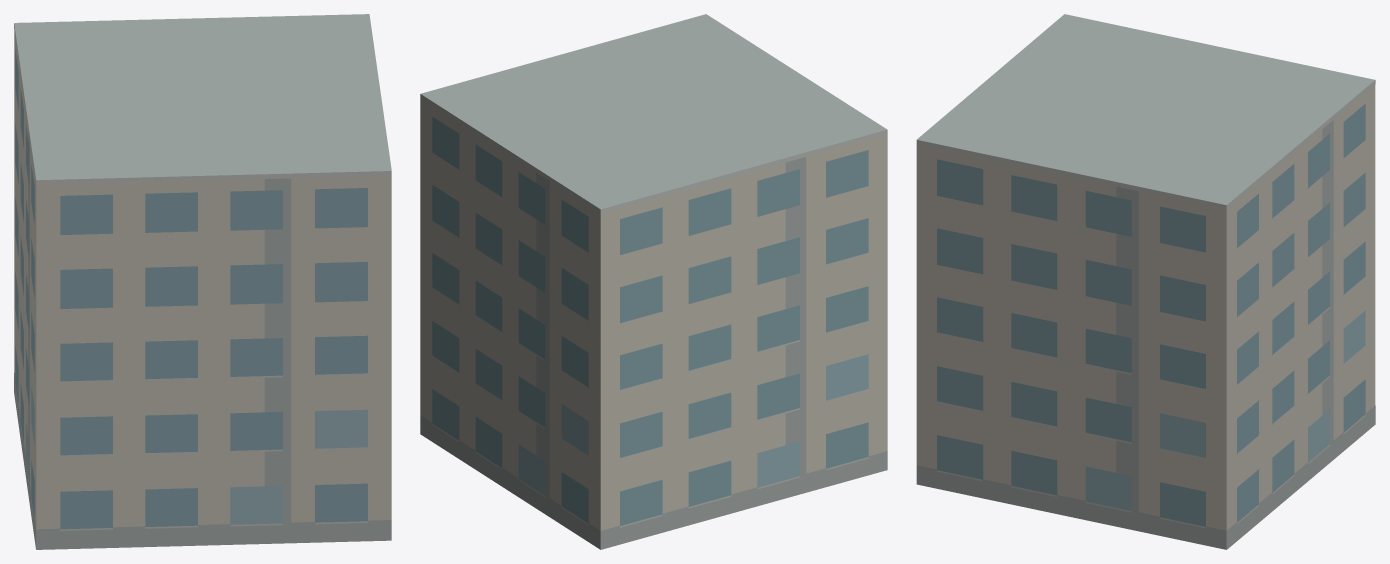
File: survey-upis-32700514.glb
The picture shows the model from 3 angles, left to right: view 1: azimuth 30°, elevation 25°; view 2: azimuth 150°, elevation 25°; view 3: azimuth 270°, elevation 25°; orthographic projection. The views are drawn at different scales.
Visible parts, largest first — view 1: survey-upis-32700514.tmp; view 2: survey-upis-32700514.tmp; view 3: survey-upis-32700514.tmp.
Boxes of the visible parts, box(x1,y1,x2,y2) form: survey-upis-32700514.tmp: box(14, 14, 391, 549); survey-upis-32700514.tmp: box(420, 14, 887, 549); survey-upis-32700514.tmp: box(916, 14, 1375, 549).
Bounding box in the file's own units: 21.69 × 18.23 × 22.
